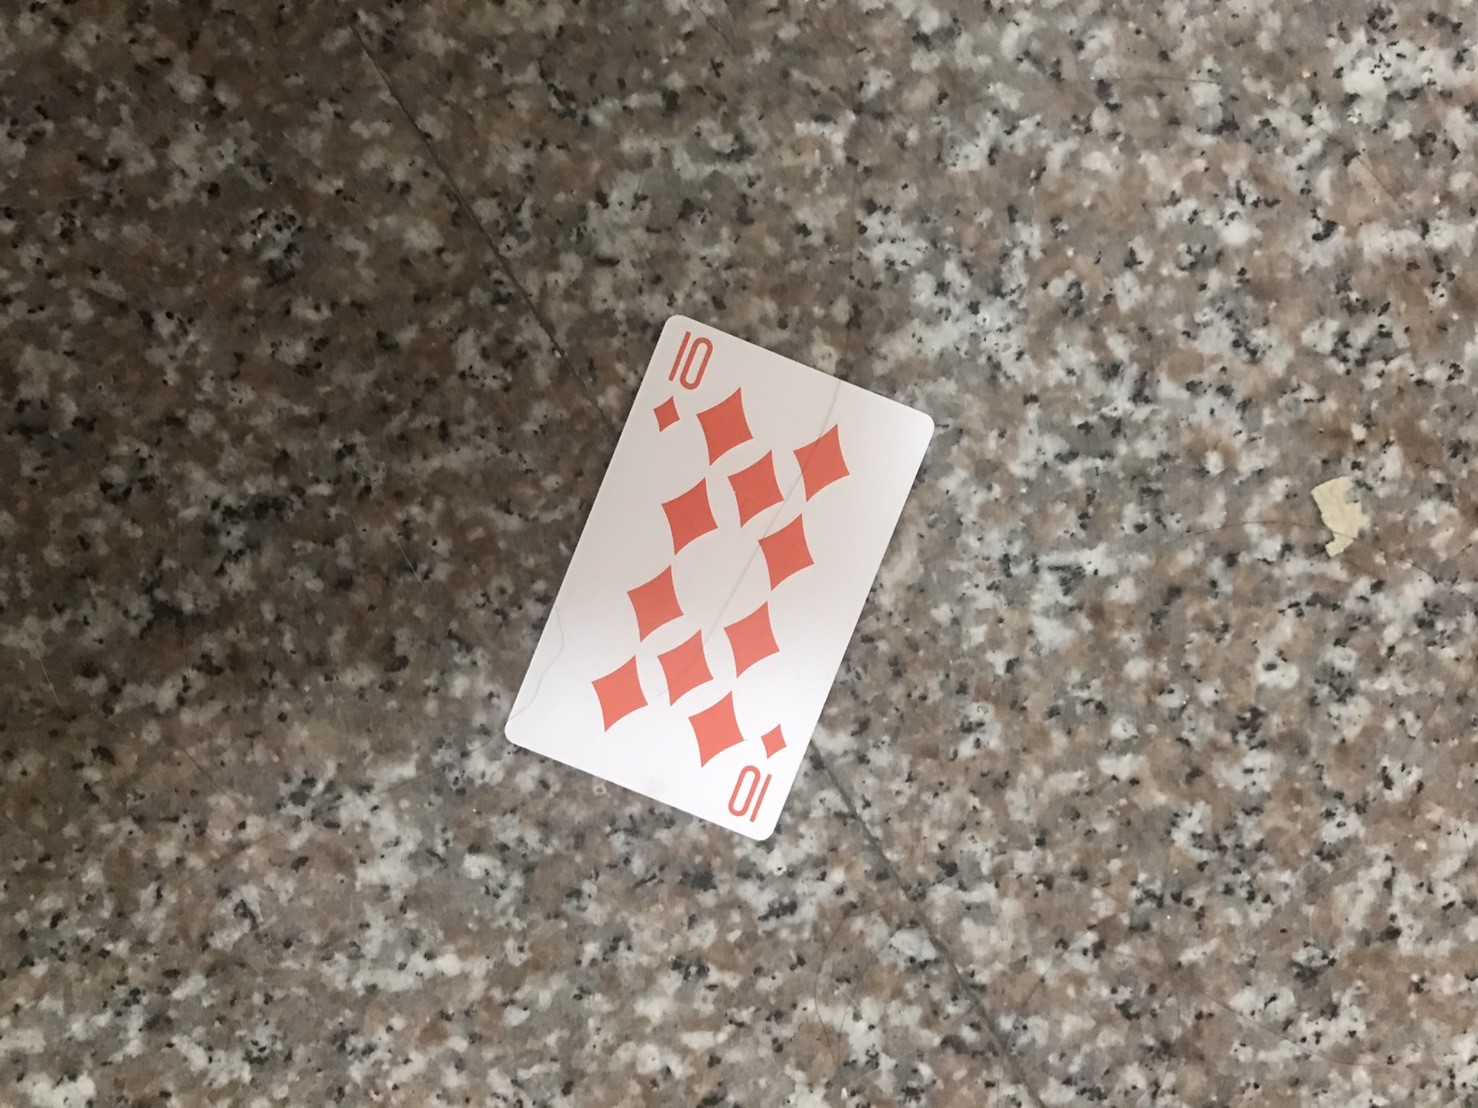diamonds: (658, 473, 723, 557), (791, 416, 852, 505), (589, 651, 652, 734), (759, 511, 820, 594), (624, 562, 685, 644), (688, 687, 746, 772), (722, 602, 786, 679), (652, 628, 716, 704), (692, 388, 756, 462), (730, 447, 786, 526), (646, 386, 682, 436), (760, 716, 788, 762)
